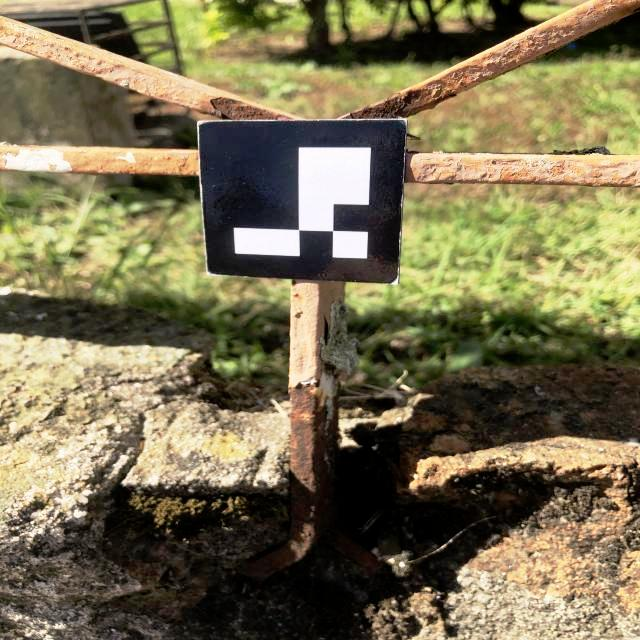Corrosion: (243, 379, 387, 582), (340, 90, 423, 119), (210, 97, 298, 121), (407, 134, 417, 138), (292, 280, 296, 286)
